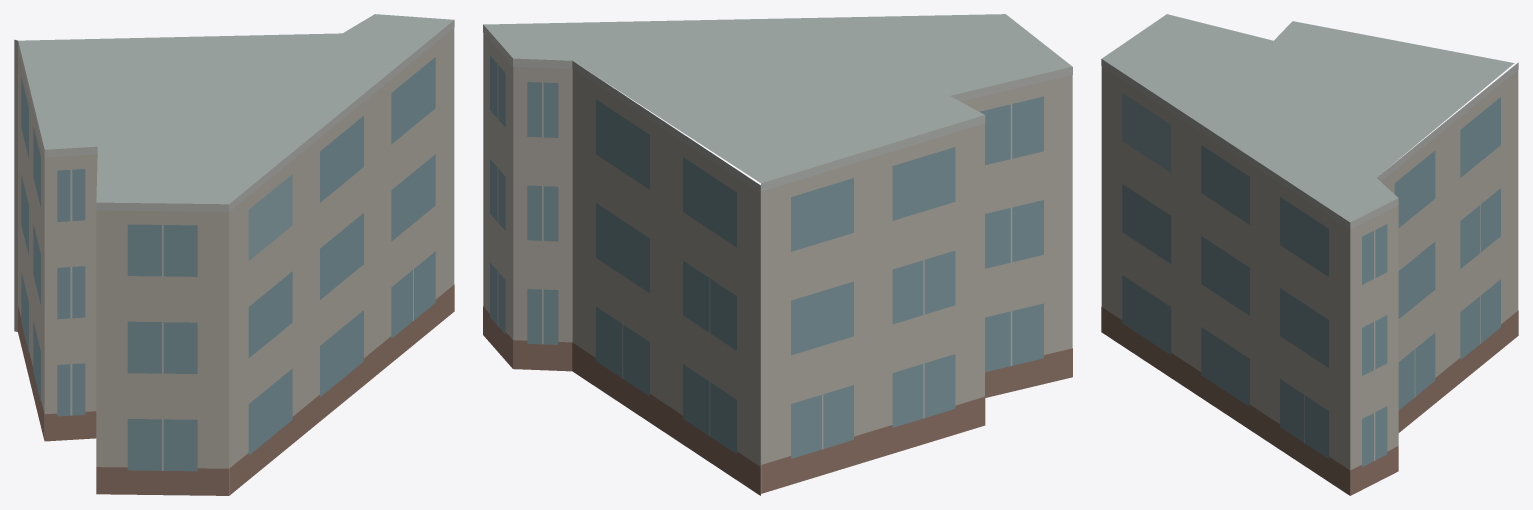
Rendered from survey-upis-32824517.glb.
3 views of the same model, side by side, from view 1: azimuth 30°, elevation 25°; view 2: azimuth 150°, elevation 25°; view 3: azimuth 270°, elevation 25° (orthographic). The views are drawn at different scales.
Parts seen in each view (by area): view 1: survey-upis-32824517.tmp; view 2: survey-upis-32824517.tmp; view 3: survey-upis-32824517.tmp.
Part boxes in pixels (left/top/right/bottom): survey-upis-32824517.tmp: left=14, top=14, right=454, bottom=495; survey-upis-32824517.tmp: left=483, top=14, right=1072, bottom=495; survey-upis-32824517.tmp: left=1101, top=14, right=1518, bottom=495.
Bounding box in the file's own units: 14.98 × 9.15 × 12.66.
